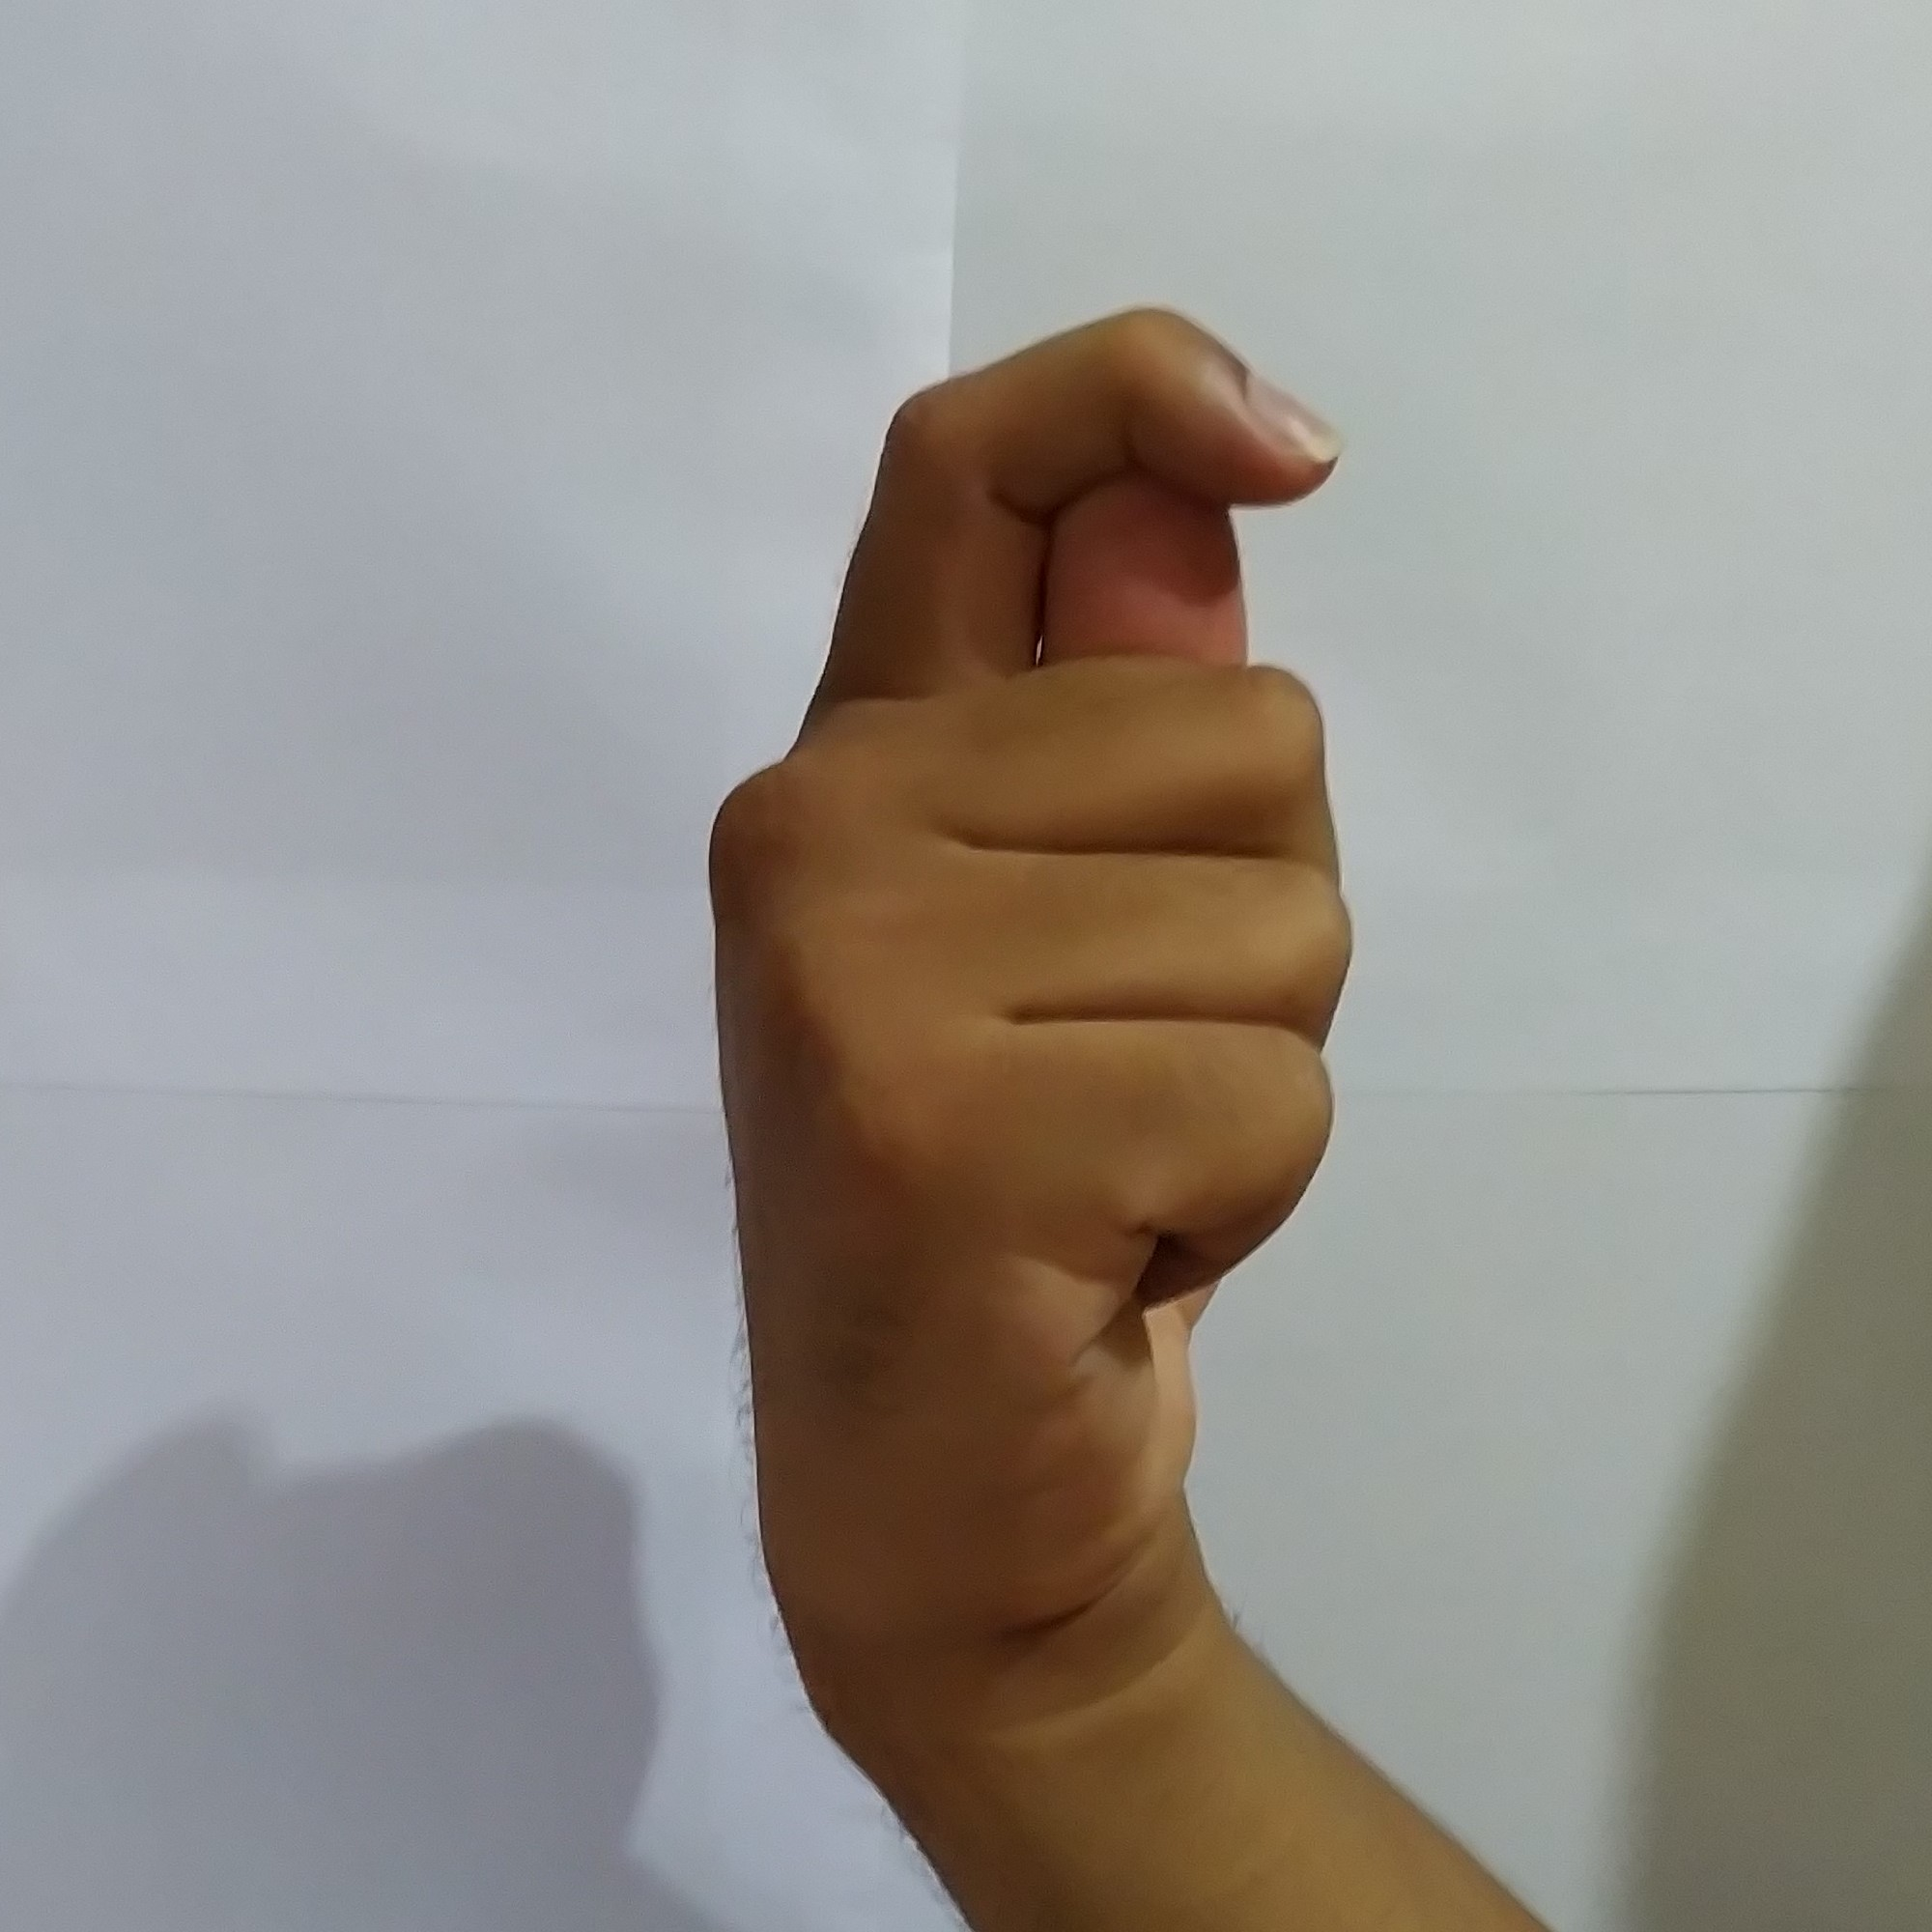T: (678, 280, 1392, 1619)
